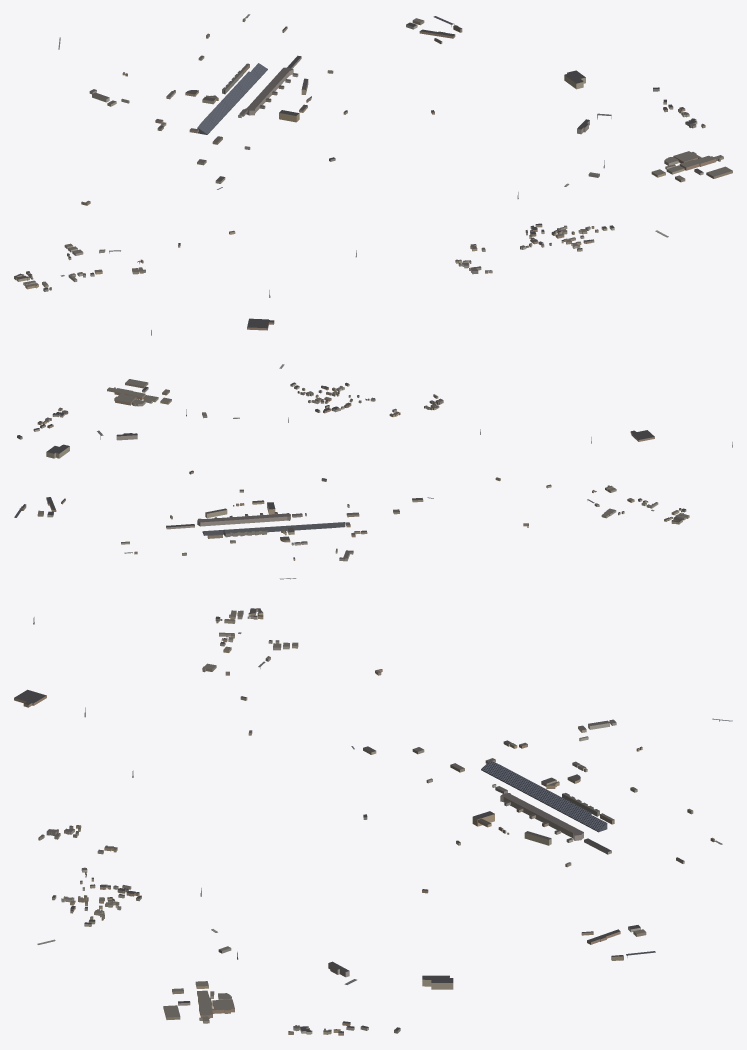
The model's file is scenery.glb.
The picture shows the model from 3 angles, top to bottom: view 1: azimuth 30°, elevation 25°; view 2: azimuth 150°, elevation 25°; view 3: azimuth 270°, elevation 25°; orthographic projection. The views are drawn at different scales.
Visible parts, largest first — view 1: chunk_14_14, chunk_17_17, chunk_15_15; view 2: chunk_15_15, chunk_14_14, chunk_17_17, chunk_15_14, chunk_17_16, chunk_16_17; view 3: chunk_14_14, chunk_15_15, chunk_17_17, chunk_15_14.
Part boxes in pixels (x1=…): chunk_14_14: x1=92, y1=55, x2=267, y2=134; chunk_17_17: x1=651, y1=151, x2=732, y2=182; chunk_15_15: x1=245, y1=67, x2=347, y2=122; chunk_15_15: x1=197, y1=489, x2=290, y2=526; chunk_14_14: x1=202, y1=522, x2=353, y2=561; chunk_17_17: x1=107, y1=379, x2=171, y2=406; chunk_15_14: x1=121, y1=515, x2=267, y2=555; chunk_17_16: x1=33, y1=407, x2=137, y2=440; chunk_16_17: x1=202, y1=382, x2=339, y2=422; chunk_14_14: x1=481, y1=720, x2=642, y2=832; chunk_15_15: x1=456, y1=793, x2=583, y2=845; chunk_17_17: x1=163, y1=981, x2=234, y2=1023; chunk_15_14: x1=542, y1=793, x2=693, y2=867.
Bounding box in the file's own units: 2412 × 186 × 1874.
